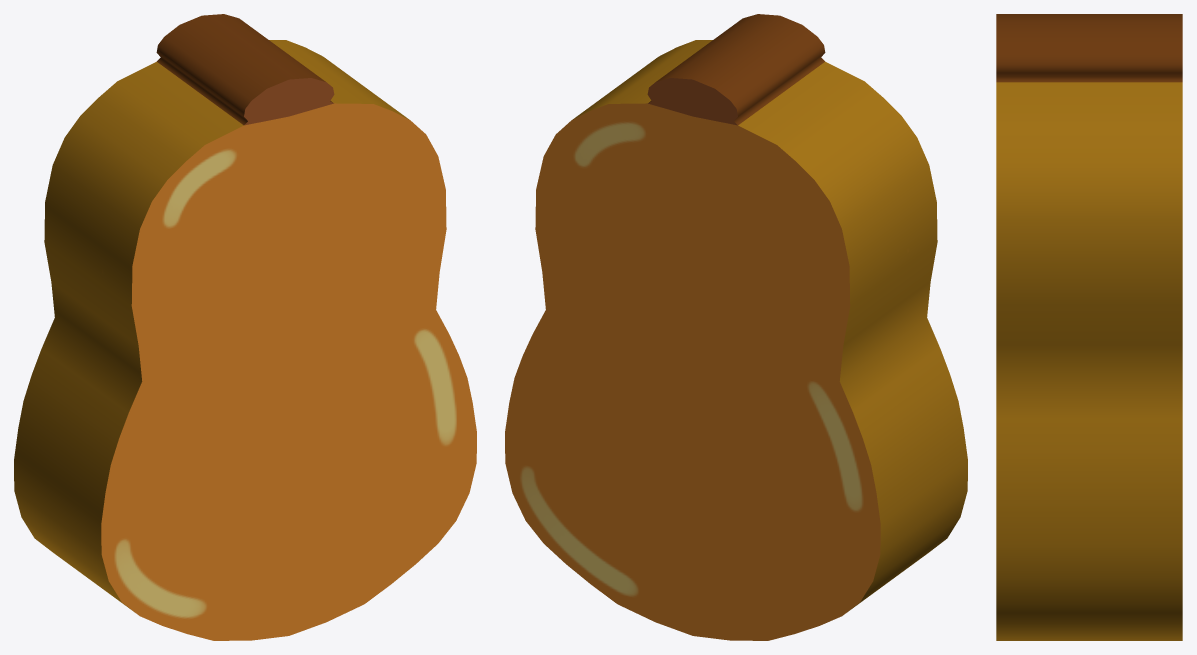
Rendered from mesh_Butternut_Pumpkin_v1.0.fbx.
The picture shows the model from 3 angles, left to right: view 1: azimuth 30°, elevation 25°; view 2: azimuth 150°, elevation 25°; view 3: azimuth 270°, elevation 25°; orthographic projection. The views are drawn at different scales.
Visible parts, largest first — view 1: pCube17; view 2: pCube17; view 3: pCube17.
Boxes of the visible parts, x1,y1,x2,y2 form: pCube17: (14,14,476,640); pCube17: (505,14,967,640); pCube17: (996,14,1182,640).
Size of the model in its own units: 72.2 by 102 by 29.08.
